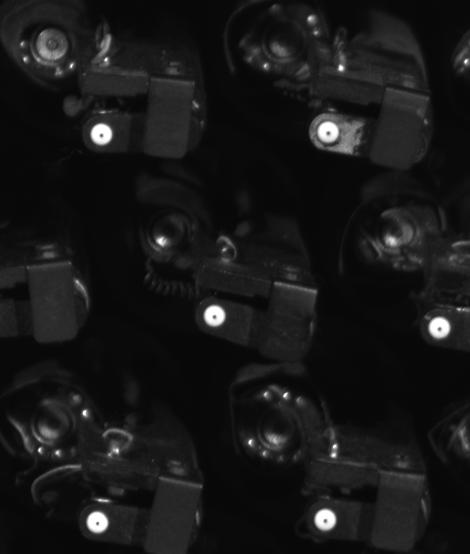fiber: (79, 505, 116, 538), (196, 300, 233, 332), (310, 504, 340, 537), (424, 313, 456, 343), (85, 119, 117, 147), (314, 118, 346, 145)
